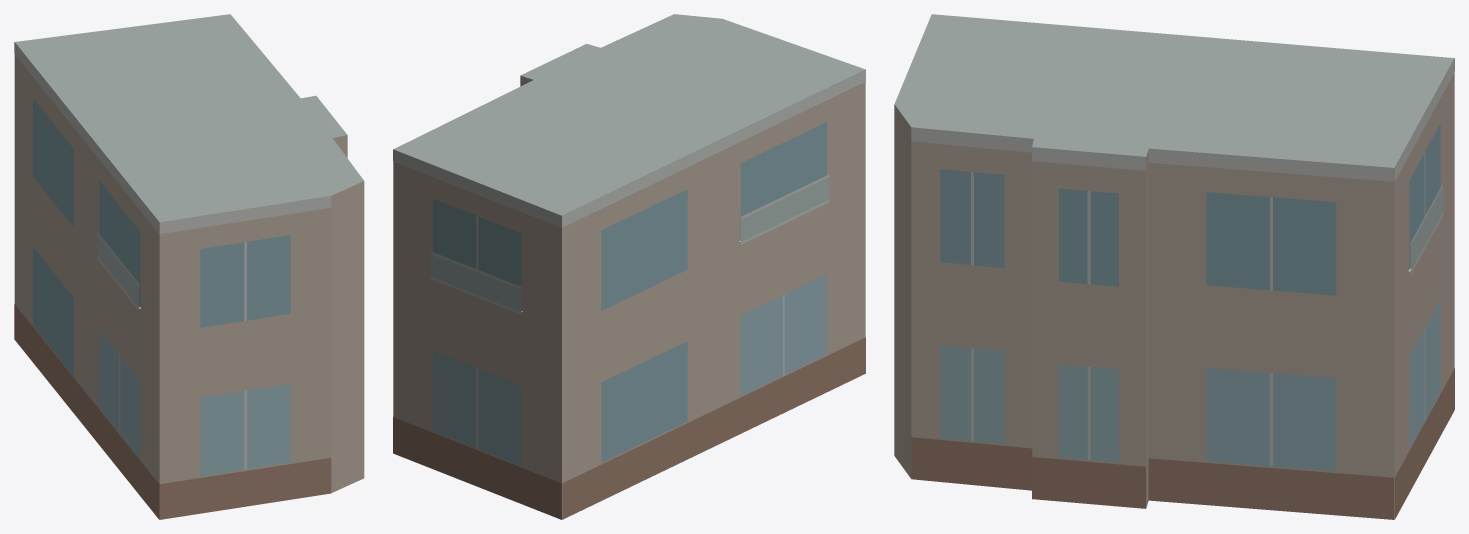
The model's file is survey-upis-32717410.glb.
The picture shows the model from 3 angles, left to right: view 1: azimuth 30°, elevation 25°; view 2: azimuth 150°, elevation 25°; view 3: azimuth 270°, elevation 25°; orthographic projection. The views are drawn at different scales.
Parts seen in each view (by area): view 1: survey-upis-32717410.tmp; view 2: survey-upis-32717410.tmp; view 3: survey-upis-32717410.tmp.
Part boxes in pixels (<box>): survey-upis-32717410.tmp: <box>14,14,364,519</box>; survey-upis-32717410.tmp: <box>393,14,865,519</box>; survey-upis-32717410.tmp: <box>894,14,1454,519</box>.
Size of the model in its own units: 5.73 by 6.1 by 8.81.
